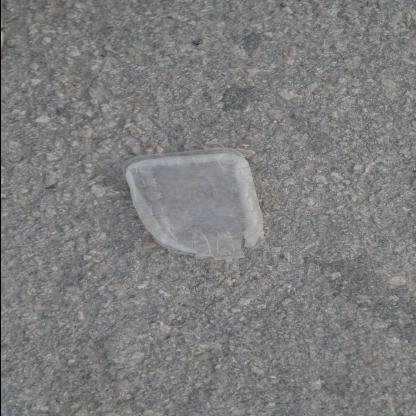plastik: (122, 150, 267, 262)
